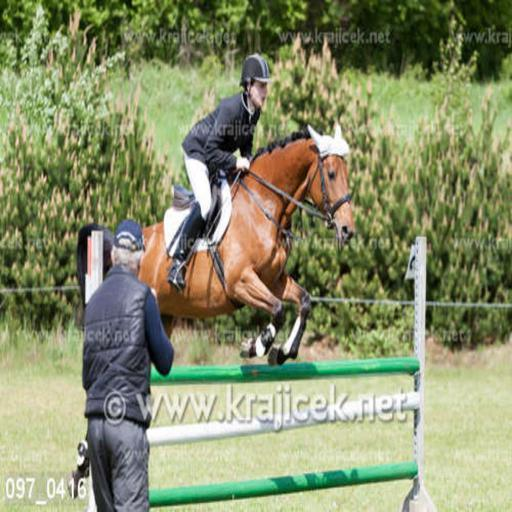horse: (66, 124, 356, 500)
